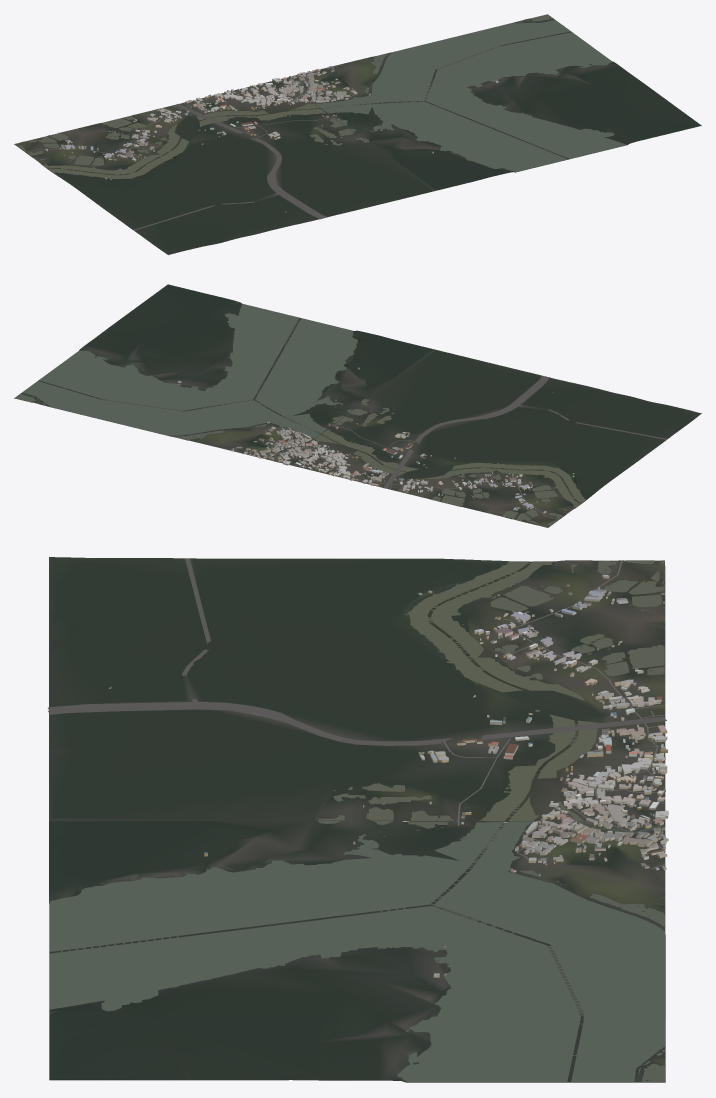
The picture shows the model from 3 angles, top to bottom: view 1: azimuth 30°, elevation 25°; view 2: azimuth 150°, elevation 25°; view 3: azimuth 270°, elevation 25°; orthographic projection. The views are drawn at different scales.
Visible parts, largest first — view 1: ground, water, buildings, roads; view 2: ground, water, buildings, roads; view 3: ground, water, buildings, roads.
Part boxes in pixels (bbox=[...]): ground: bbox=[14, 17, 701, 254]; water: bbox=[14, 14, 626, 178]; buildings: bbox=[45, 66, 498, 212]; roads: bbox=[25, 68, 354, 230]; ground: bbox=[14, 284, 701, 527]; water: bbox=[14, 303, 585, 527]; buildings: bbox=[177, 367, 574, 519]; roads: bbox=[235, 376, 667, 519]; ground: bbox=[49, 557, 665, 1082]; water: bbox=[49, 560, 665, 1081]; buildings: bbox=[109, 575, 668, 977]; roads: bbox=[48, 558, 666, 868].
Bounding box in the file's own units: 2803 × 15.74 × 1412.
